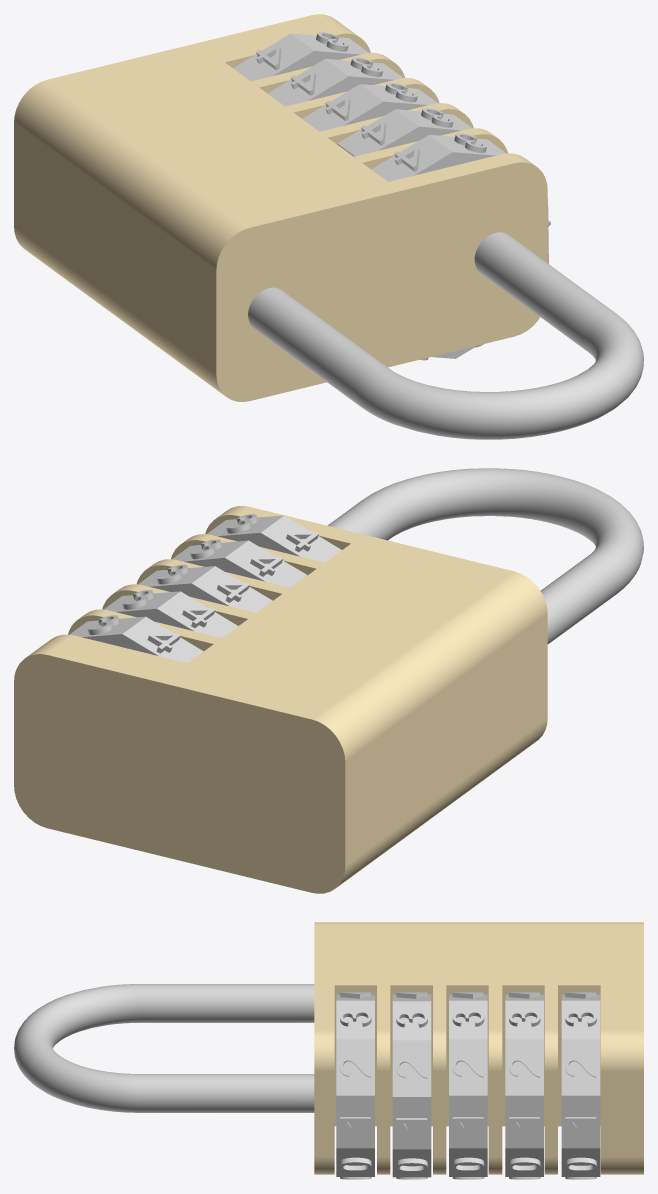
The model's file is cadenas1.gltf.
The picture shows the model from 3 angles, top to bottom: view 1: azimuth 30°, elevation 25°; view 2: azimuth 150°, elevation 25°; view 3: azimuth 270°, elevation 25°; orthographic projection. The views are drawn at different scales.
Visible parts, largest first — view 1: Body1, Body10, Body4, Body9, Body8, Body7, Body6; view 2: Body1, Body10, Body4, Body6, Body7, Body8, Body9; view 3: Body1, Body10, Body6, Body9, Body7, Body4, Body8.
Part boxes in pixels (left/top/right/bottom): Body1: left=14, top=14, right=547, bottom=401; Body10: left=248, top=232, right=643, bottom=439; Body4: left=371, top=133, right=550, bottom=360; Body9: left=233, top=32, right=370, bottom=81; Body8: left=267, top=57, right=404, bottom=106; Body7: left=302, top=82, right=439, bottom=131; Body6: left=337, top=108, right=473, bottom=156; Body1: left=14, top=506, right=547, bottom=893; Body10: left=327, top=468, right=643, bottom=644; Body4: left=207, top=514, right=341, bottom=562; Body6: left=172, top=539, right=307, bottom=587; Body7: left=138, top=564, right=272, bottom=612; Body8: left=104, top=590, right=237, bottom=637; Body9: left=70, top=615, right=203, bottom=662; Body1: left=314, top=922, right=643, bottom=1174; Body10: left=14, top=984, right=314, bottom=1112; Body6: left=392, top=992, right=431, bottom=1179; Body9: left=561, top=992, right=600, bottom=1179; Body7: left=449, top=992, right=487, bottom=1179; Body4: left=336, top=992, right=374, bottom=1179; Body8: left=505, top=992, right=543, bottom=1179.
Bounding box in the file's own units: 0.0538 × 0.0304 × 0.1027.
